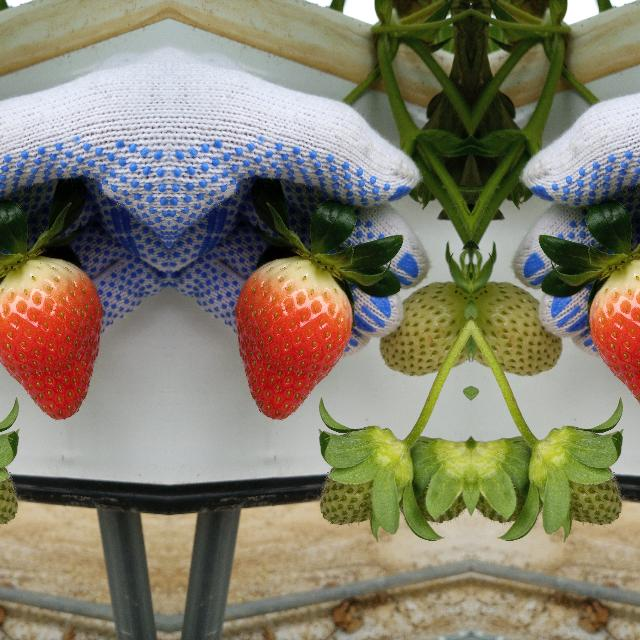Health_100: (234, 256, 354, 420), (0, 256, 102, 420), (587, 256, 640, 420)
Health_25: (325, 416, 417, 540), (524, 416, 616, 540), (378, 268, 470, 388), (471, 268, 563, 388)
